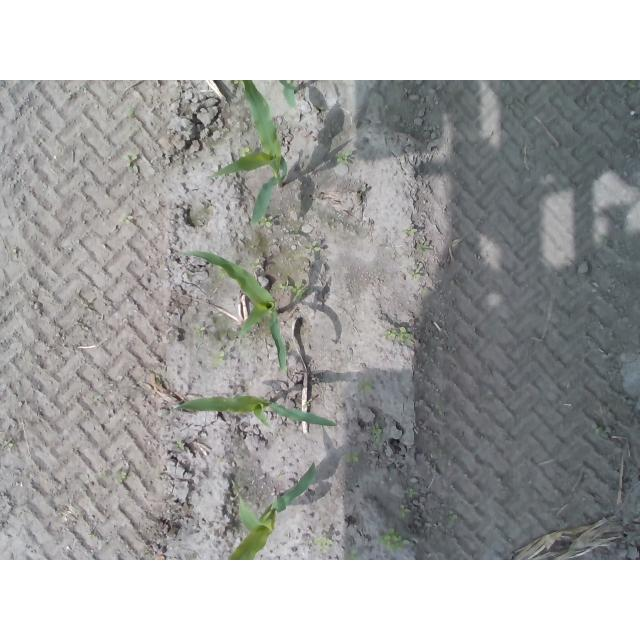Maize: (179, 248, 289, 370), (211, 80, 289, 226), (225, 460, 317, 560), (173, 396, 336, 431)
Weeds: (377, 525, 411, 551), (279, 281, 309, 302), (121, 152, 139, 176), (386, 326, 411, 343), (371, 424, 382, 456), (112, 468, 129, 484), (336, 149, 352, 164), (248, 257, 262, 272), (212, 353, 224, 368), (315, 538, 333, 548), (176, 440, 189, 453), (404, 228, 418, 240), (307, 240, 321, 252), (345, 453, 360, 464), (399, 504, 409, 519), (193, 322, 205, 333), (260, 217, 273, 227), (3, 441, 14, 452), (362, 383, 375, 391), (407, 488, 417, 498), (411, 272, 422, 281), (239, 148, 251, 156)
